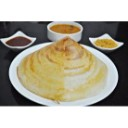dosa: (18, 39, 108, 101)
